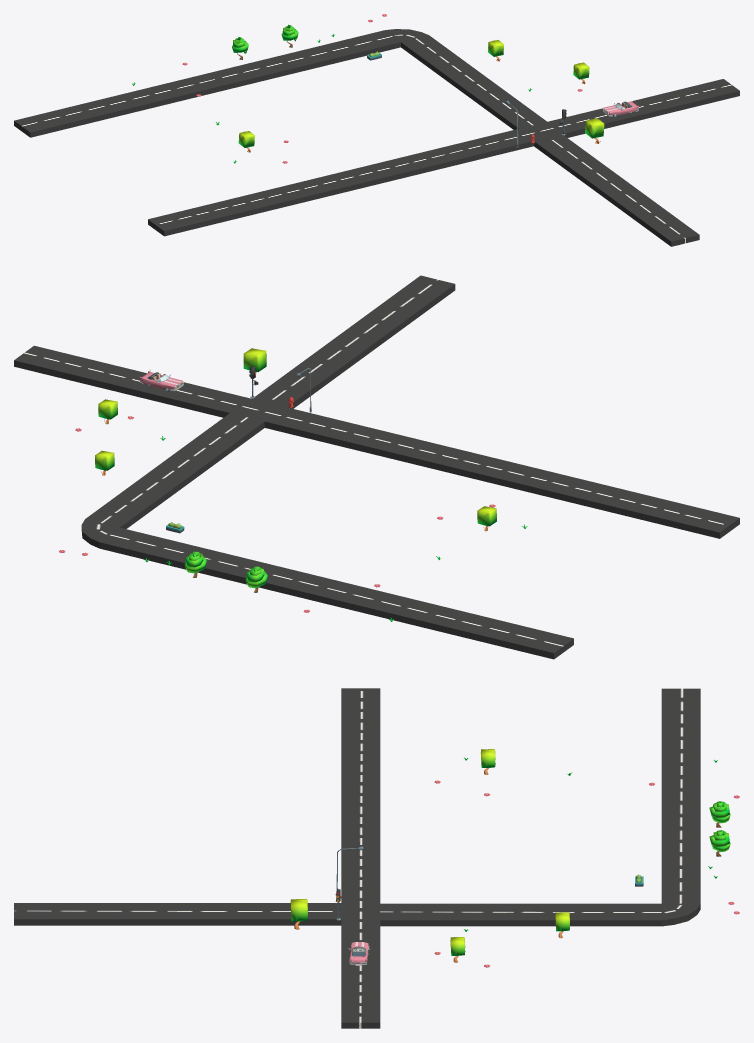
The model's file is SM_Environment.fbx.
3 renders of one model, top to bottom at view 1: azimuth 30°, elevation 25°; view 2: azimuth 150°, elevation 25°; view 3: azimuth 270°, elevation 25°, orthographic. The views are drawn at different scales.
Parts seen in each view (by area): view 1: SM_Roads, SM_Environment_Decor; view 2: SM_Roads, SM_Environment_Decor; view 3: SM_Roads, SM_Environment_Decor.
Part boxes in pixels (<box>): SM_Roads: <box>14,29,739,246</box>; SM_Environment_Decor: <box>132,14,604,163</box>; SM_Roads: <box>14,275,739,659</box>; SM_Environment_Decor: <box>59,348,527,621</box>; SM_Roads: <box>14,688,700,1028</box>; SM_Environment_Decor: <box>290,749,739,967</box>.
Size of the model in its own units: 14411 by 1038 by 13224.
